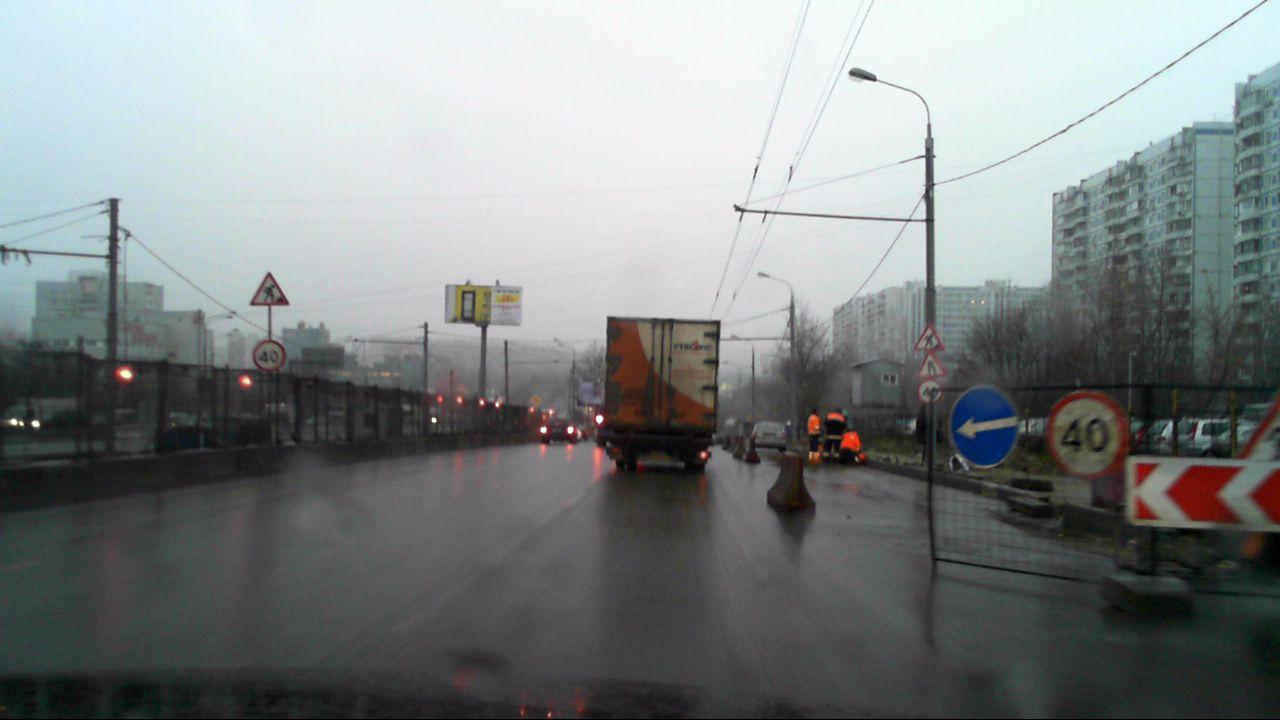1_20_2: (916, 354, 946, 382)
1_25: (250, 268, 289, 307), (912, 324, 947, 352)
1_34_2: (1129, 454, 1280, 534)
2_1: (529, 393, 542, 406)
3_2: (251, 338, 285, 369)
3_24: (1047, 388, 1125, 478), (917, 382, 941, 402)
4_2_2: (951, 385, 1021, 467)
